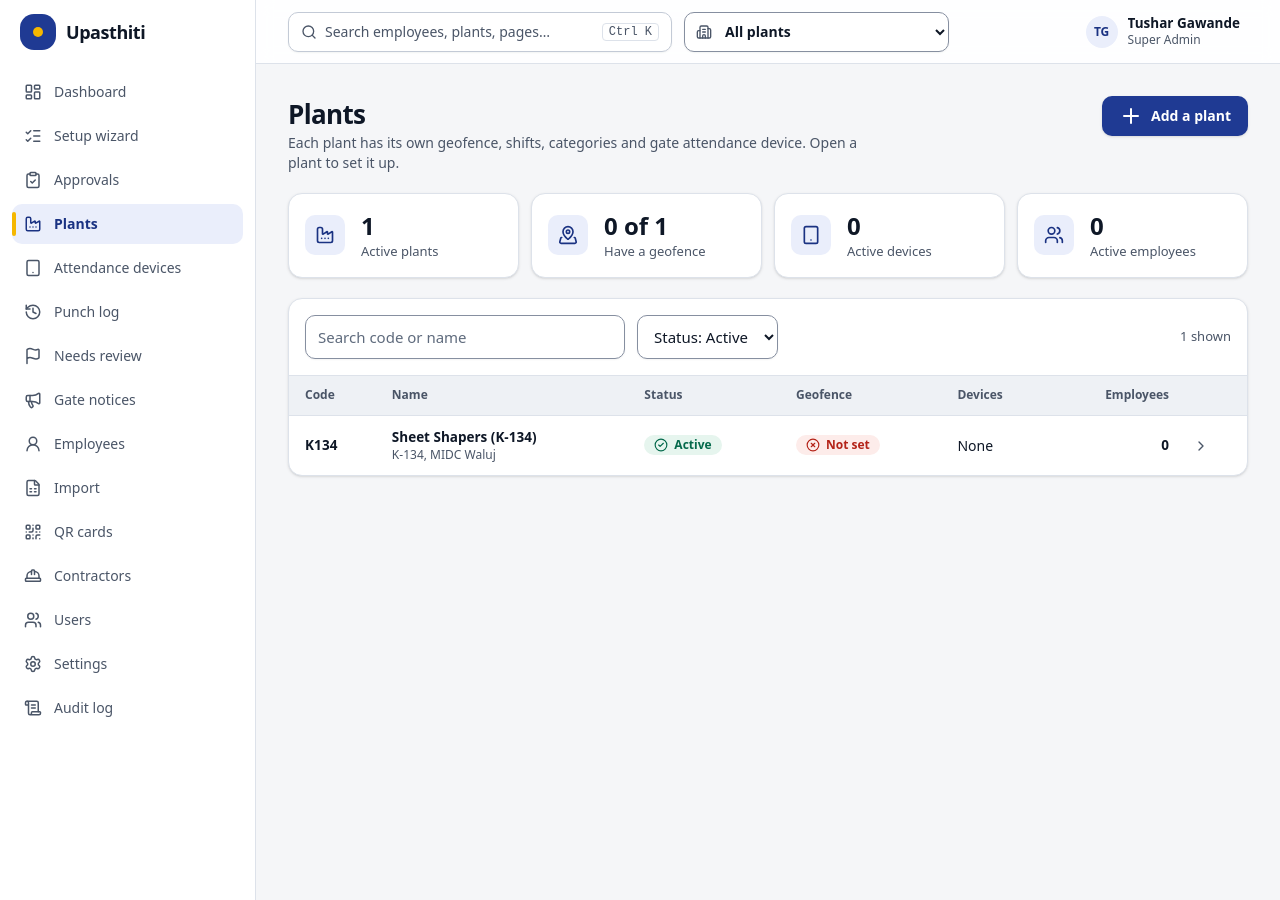
plant details › adds a plant with the code in capitals and opens it
Click the button "Add a plant" at point(1175, 116), box [1102,96,1248,136]
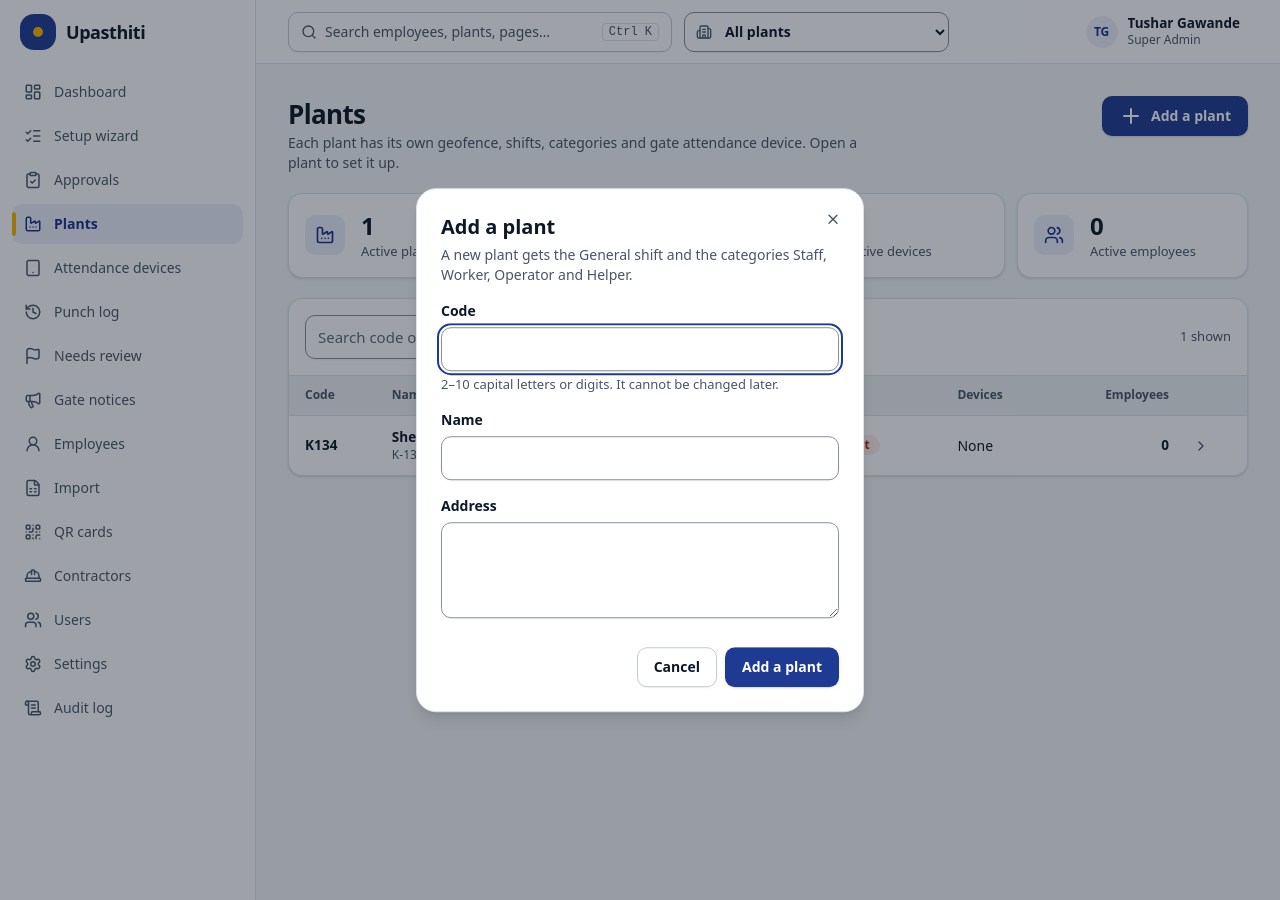
Type "new1" into the field labelled "Code" at point(640, 349), box [441,327,839,371]
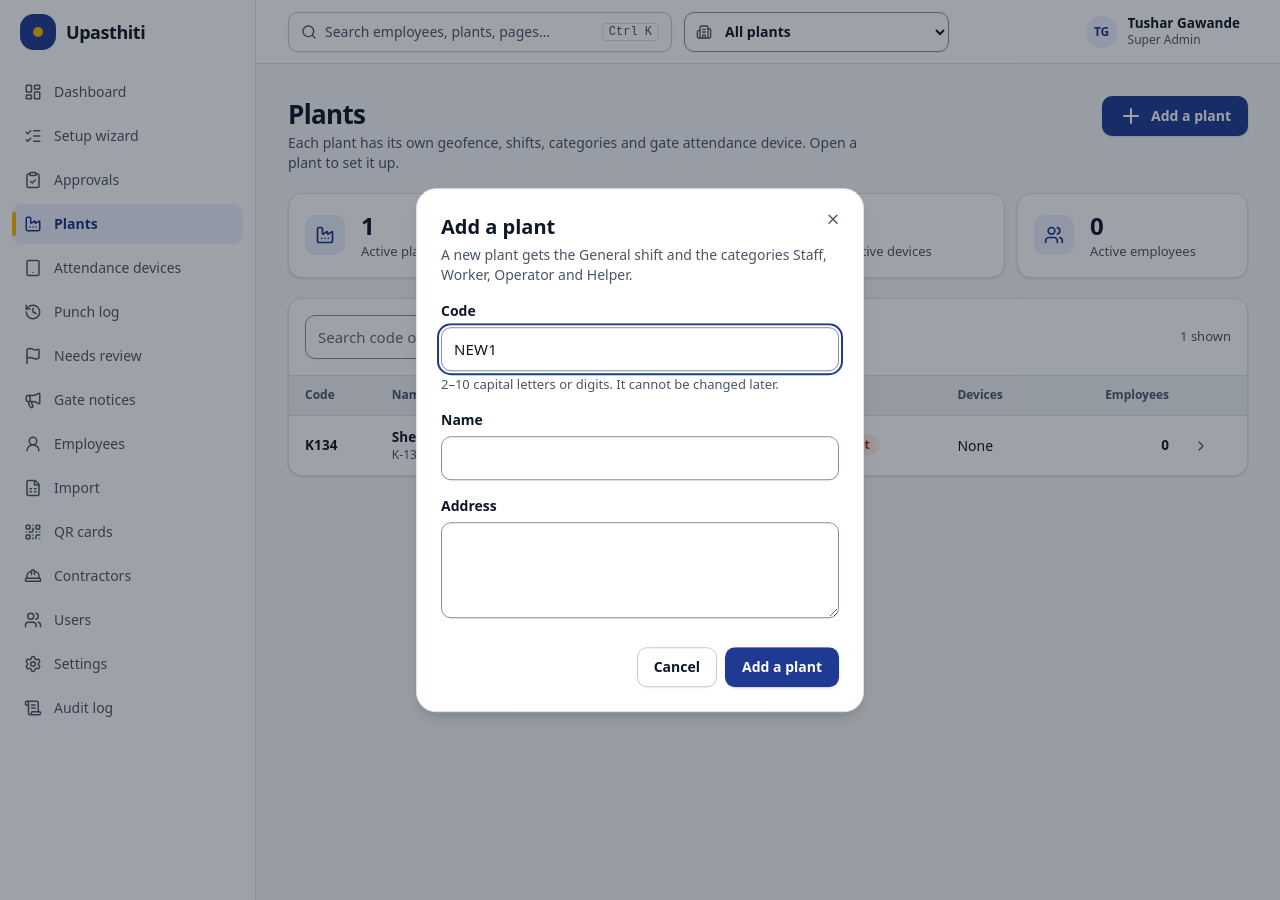
Type "New Plant" into the field labelled "Name" at point(640, 458), box [441,436,839,480]
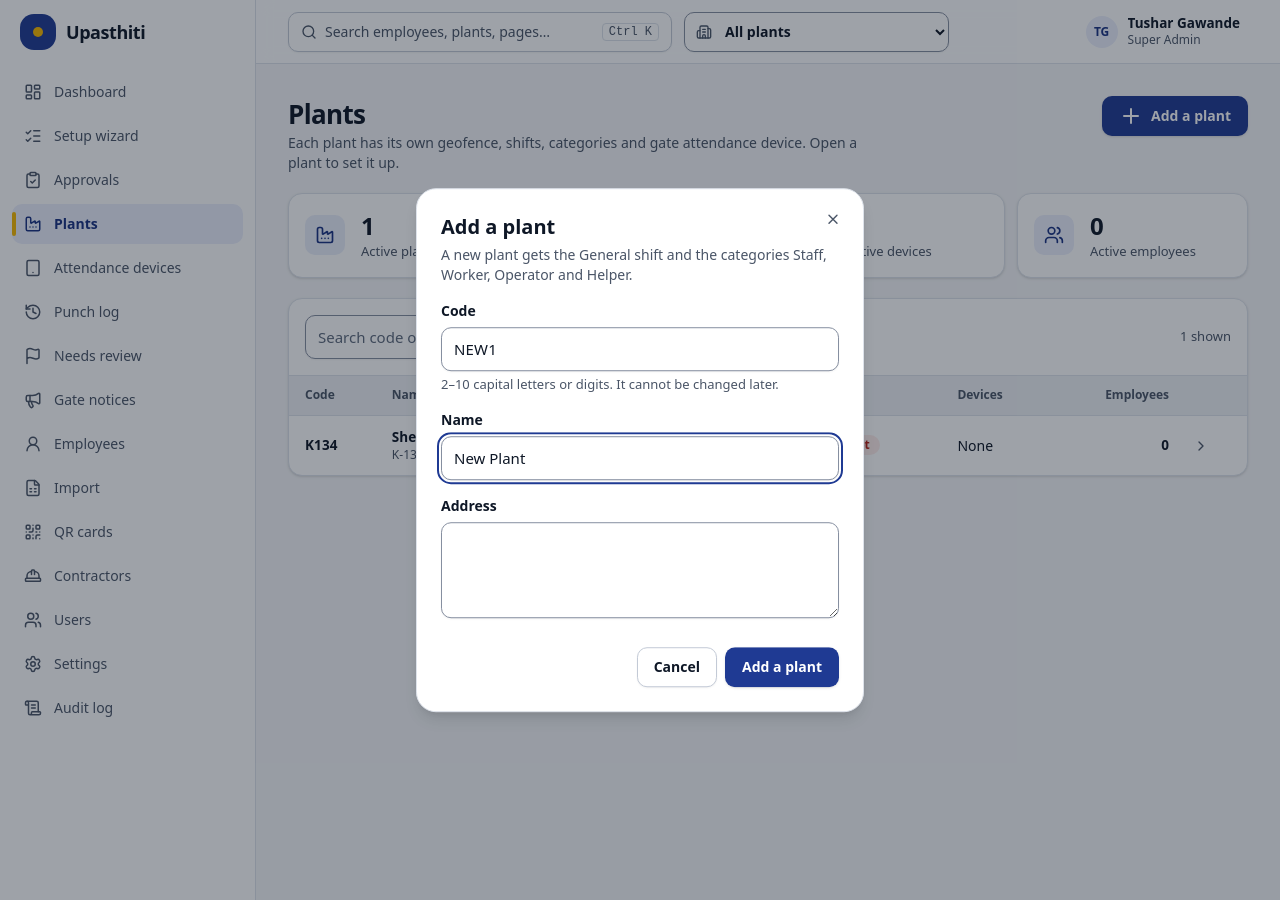
Click the button "Add a plant" at point(782, 667), box [725,647,839,687]
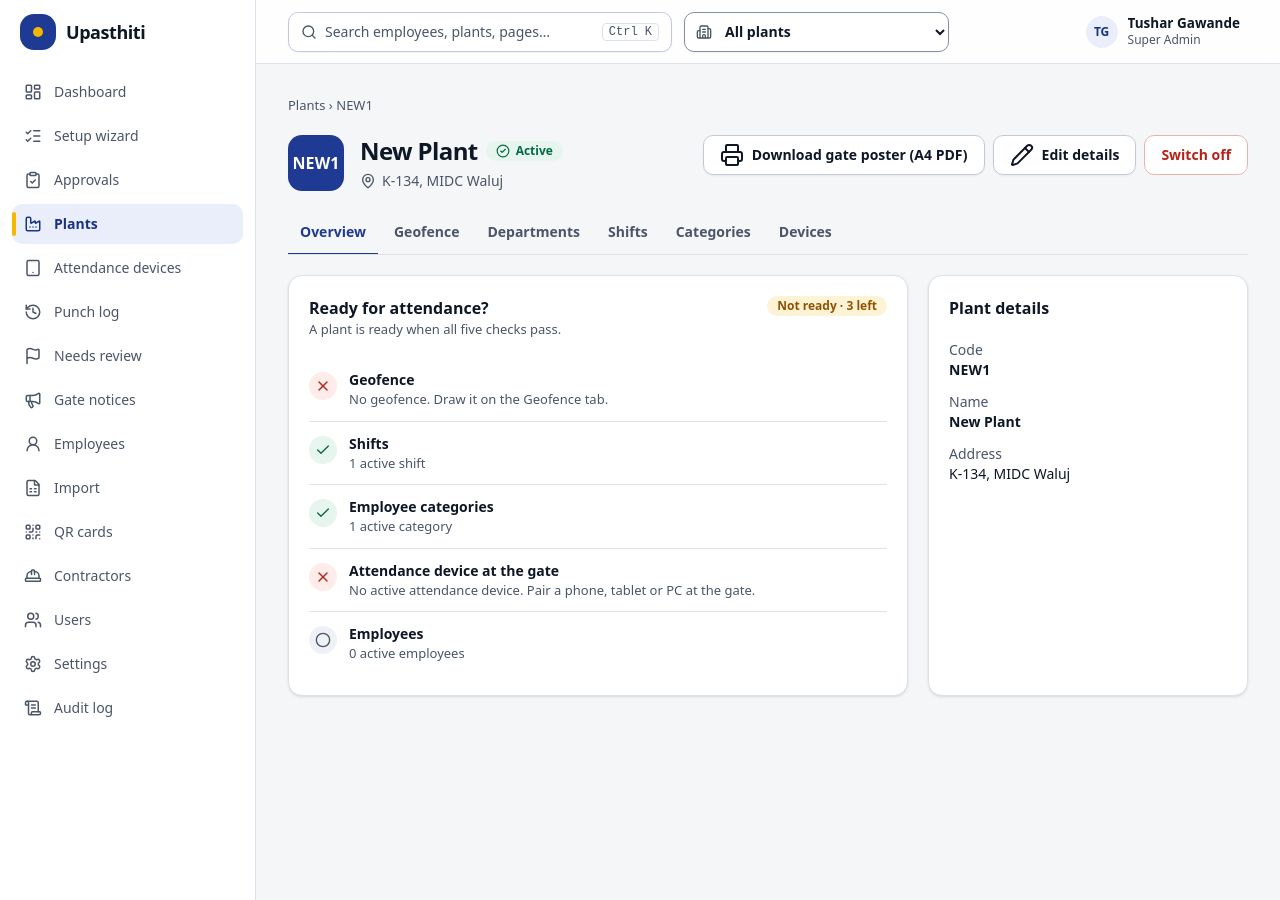
Expected: the heading "New Plant" is shown, [360,135,478,167]
